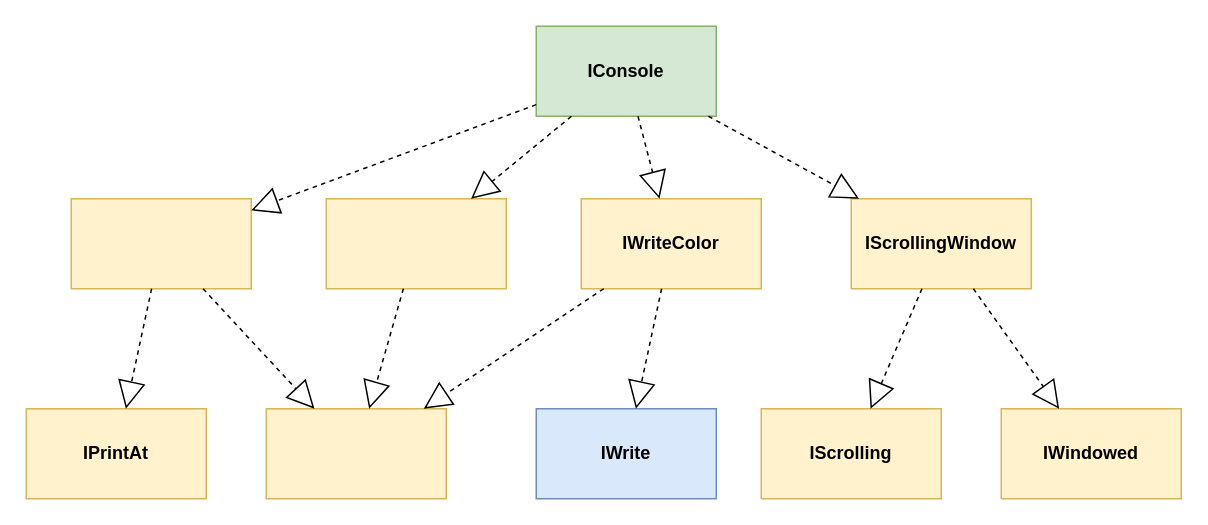
The diagram is 1208 pixels wide and 525 high, and some of its shapes have lost their labels. Here are the shapes that lost their labels. From the top down, the box of each, then its label:
(70, 197, 251, 289): IPrintAtColor
(325, 197, 506, 289): IConsoleState
(265, 407, 446, 499): ISetColors
